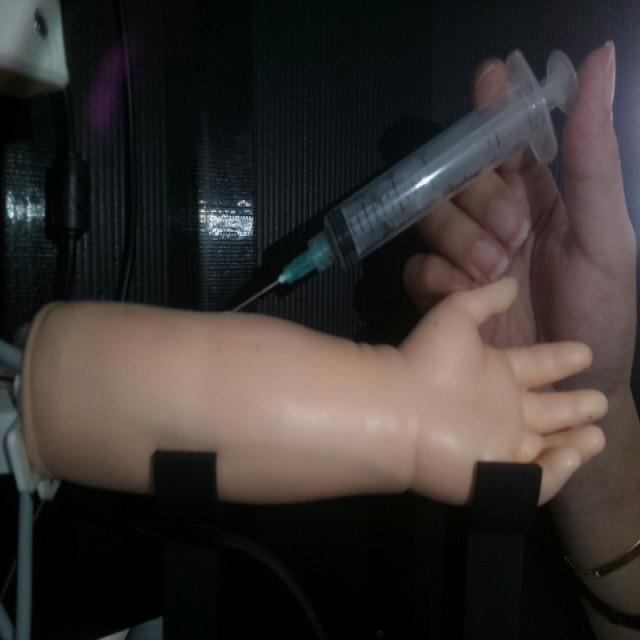Above 30 degrees: (227, 44, 580, 313)
